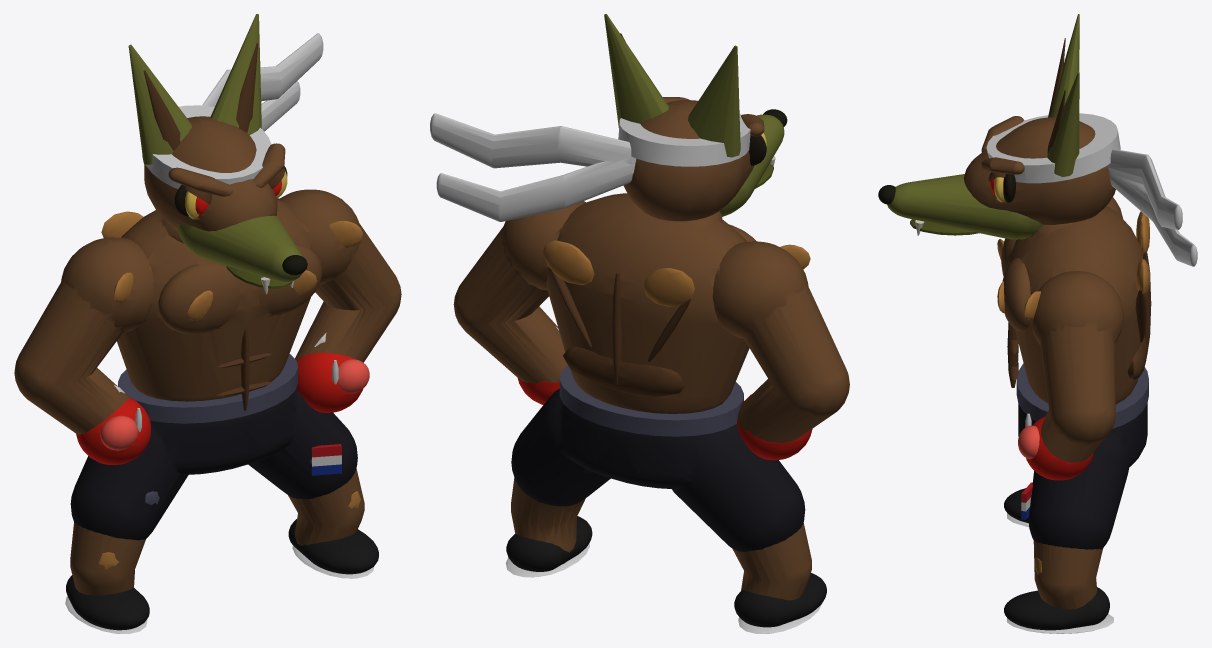
The model's file is yaschamp.glb.
3 renders of one model, left to right at view 1: azimuth 30°, elevation 25°; view 2: azimuth 150°, elevation 25°; view 3: azimuth 270°, elevation 25°, orthographic. The views are drawn at different scales.
Parts seen in each view (by area): view 1: creature; view 2: creature; view 3: creature.
Boxes of the visible parts, x1,y1,x2,y2 form: creature: (14, 14, 401, 633); creature: (430, 14, 849, 633); creature: (878, 14, 1197, 633).
Size of the model in its own units: 0.7076 by 1 by 0.5521.
